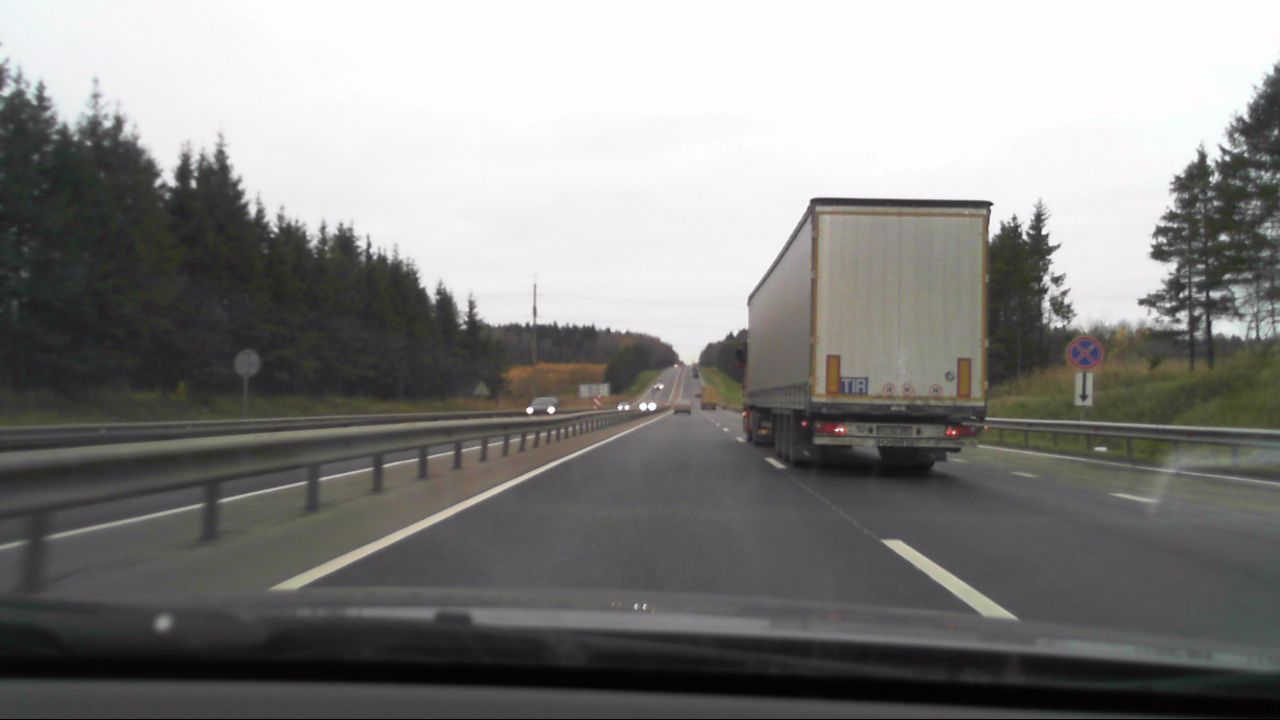No Parking: (1067, 332, 1105, 370)
